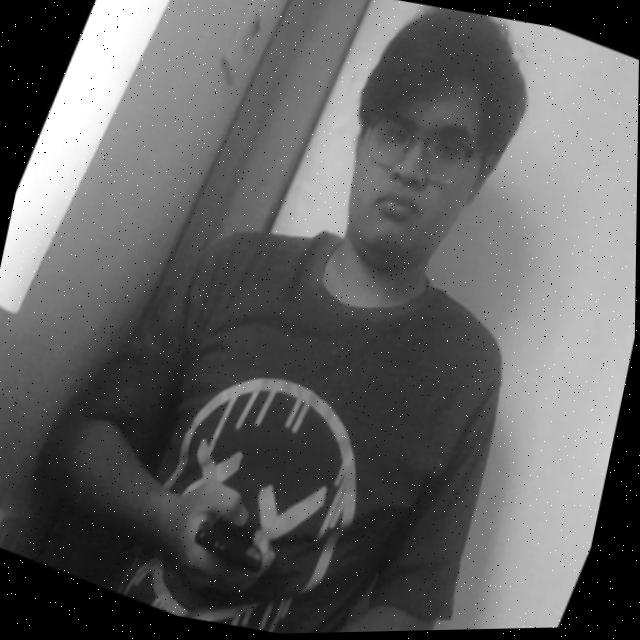phone: (164, 483, 299, 612)
